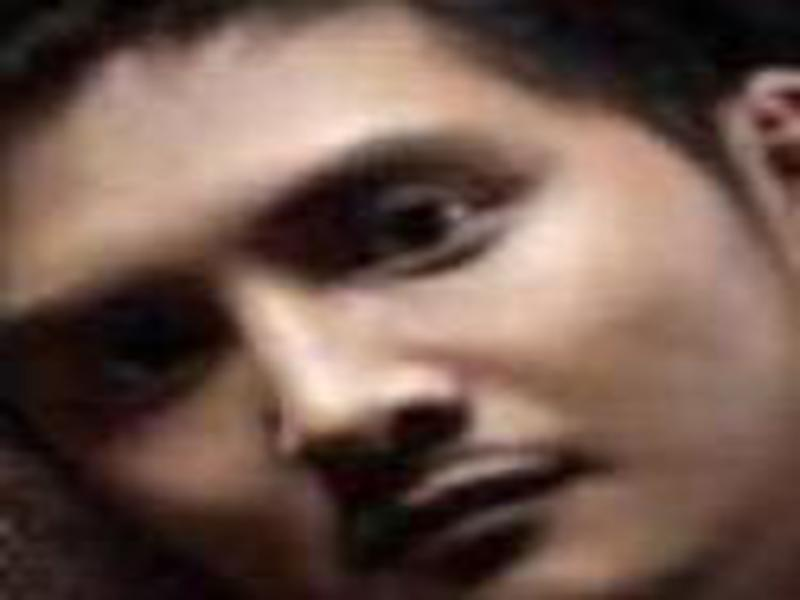without_mask: (4, 55, 742, 595)
